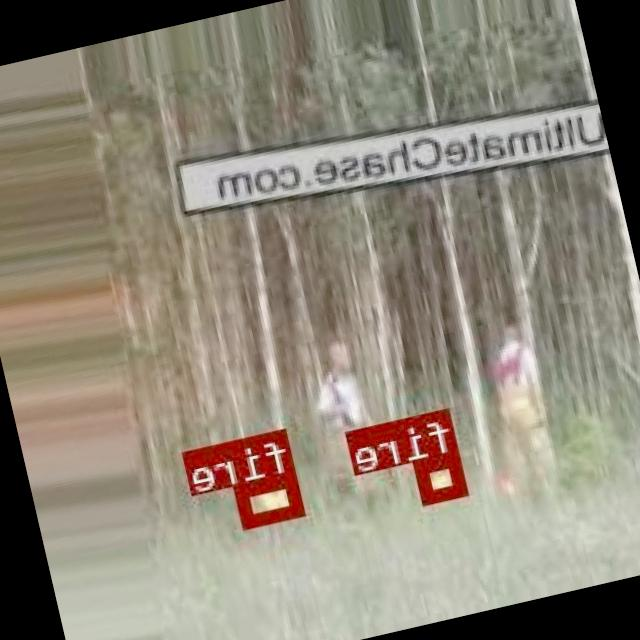fire: (236, 470, 306, 525), (415, 449, 470, 501)
